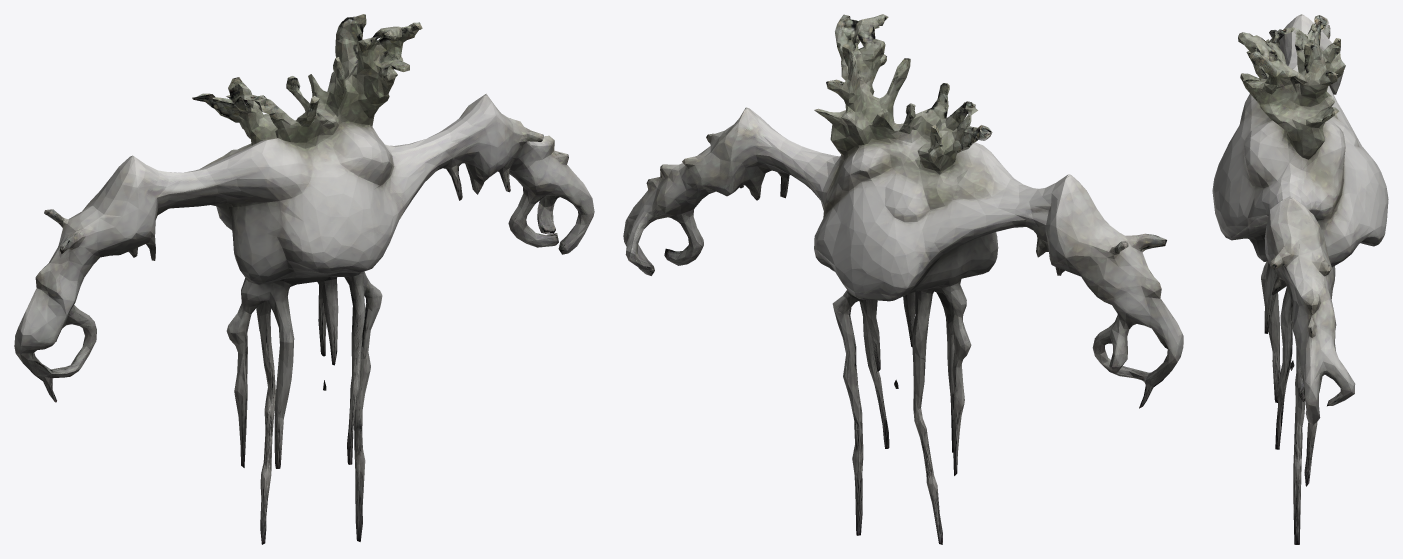
File: hugger.glb
3 views of the same model, side by side, from view 1: azimuth 30°, elevation 25°; view 2: azimuth 150°, elevation 25°; view 3: azimuth 270°, elevation 25° (orthographic). The views are drawn at different scales.
Parts seen in each view (by area): view 1: world; view 2: world; view 3: world.
Boxes of the visible parts, x1,y1,x2,y2 form: world: (14, 14, 594, 544); world: (623, 14, 1183, 544); world: (1212, 14, 1388, 544).
Size of the model in its own units: 0.9995 by 0.872 by 0.2708.
1 material, 1 textured.
